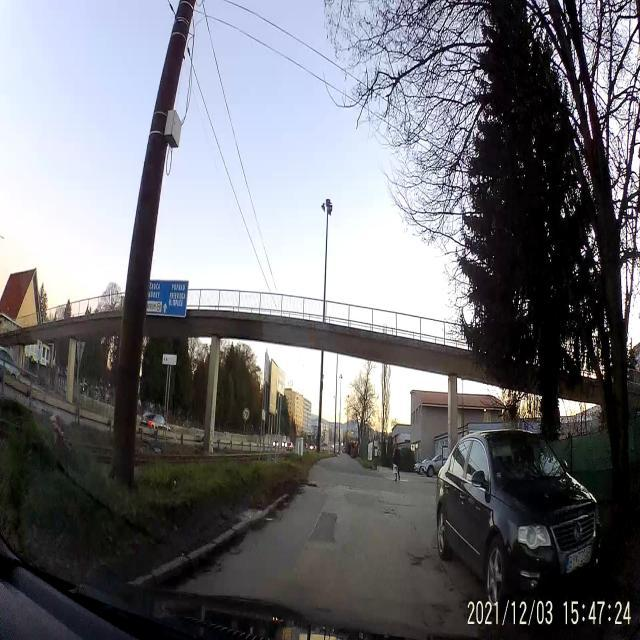Pothole: (406, 546, 434, 574), (202, 560, 224, 580), (381, 502, 398, 522), (227, 545, 244, 558), (304, 478, 322, 490)
